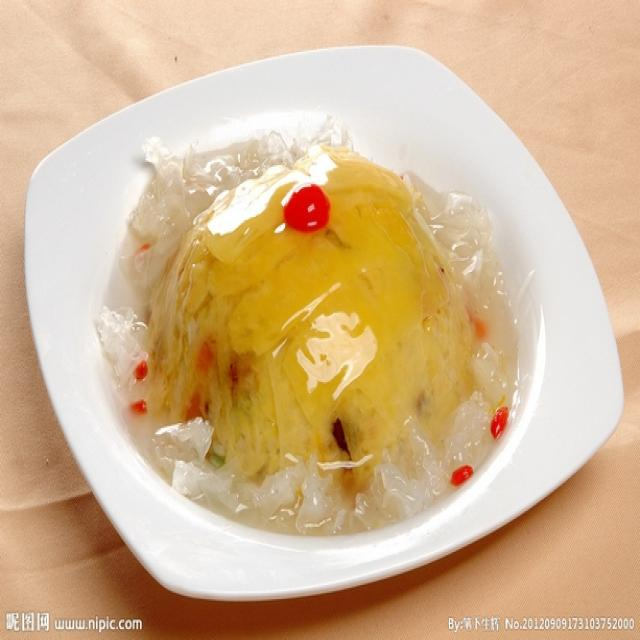米饭主食: (27, 35, 610, 599)
